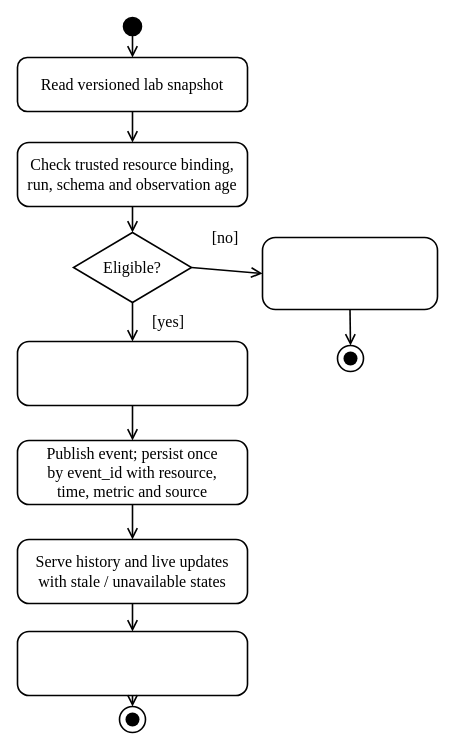
This 456x751 diagram has some shape labels left out. Each missing label, with the box of its shape:
Derive valid rates; exclude reset or incomplete counter pairs: (16, 340, 248, 406)
Evaluate sustained breach and recovery using eligible persisted observations: (16, 630, 248, 696)
Exclude invalid observation; retain diagnostic reason: (261, 236, 438, 310)
